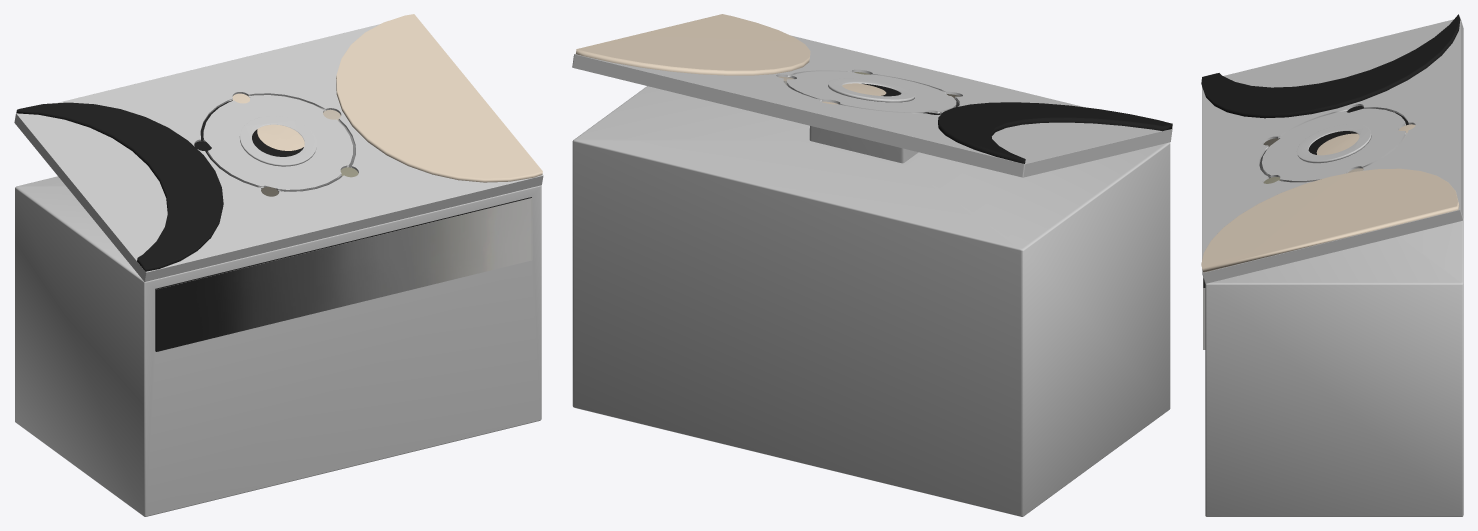
The model's file is Mechanical devices.fbx.
The picture shows the model from 3 angles, left to right: view 1: azimuth 30°, elevation 25°; view 2: azimuth 150°, elevation 25°; view 3: azimuth 270°, elevation 25°; orthographic projection. The views are drawn at different scales.
Visible parts, largest first — view 1: Cube, Cube.002; view 2: Cube; view 3: Cube.
Part boxes in pixels (x1,y1,x2,y2): Cube: (14,14,543,516); Cube.002: (155,197,532,351); Cube: (572,14,1172,516); Cube: (1201,14,1463,516).
Bounding box in the file's own units: 377 × 285 × 217.
